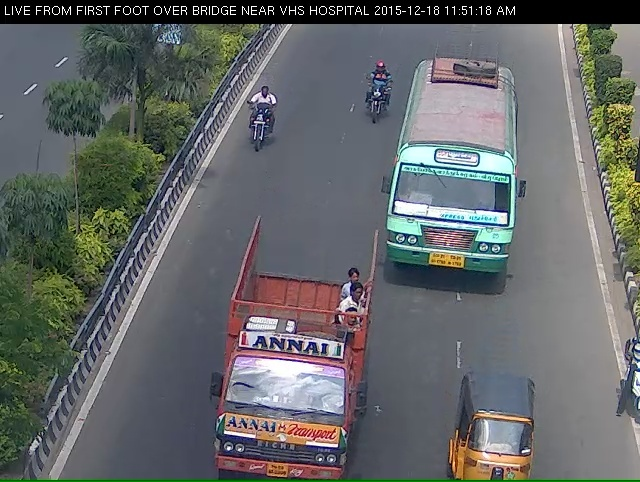Auto: (459, 405, 545, 480)
Bus: (212, 261, 370, 479), (402, 67, 512, 294)
Person: (235, 91, 278, 169), (355, 65, 390, 148)
